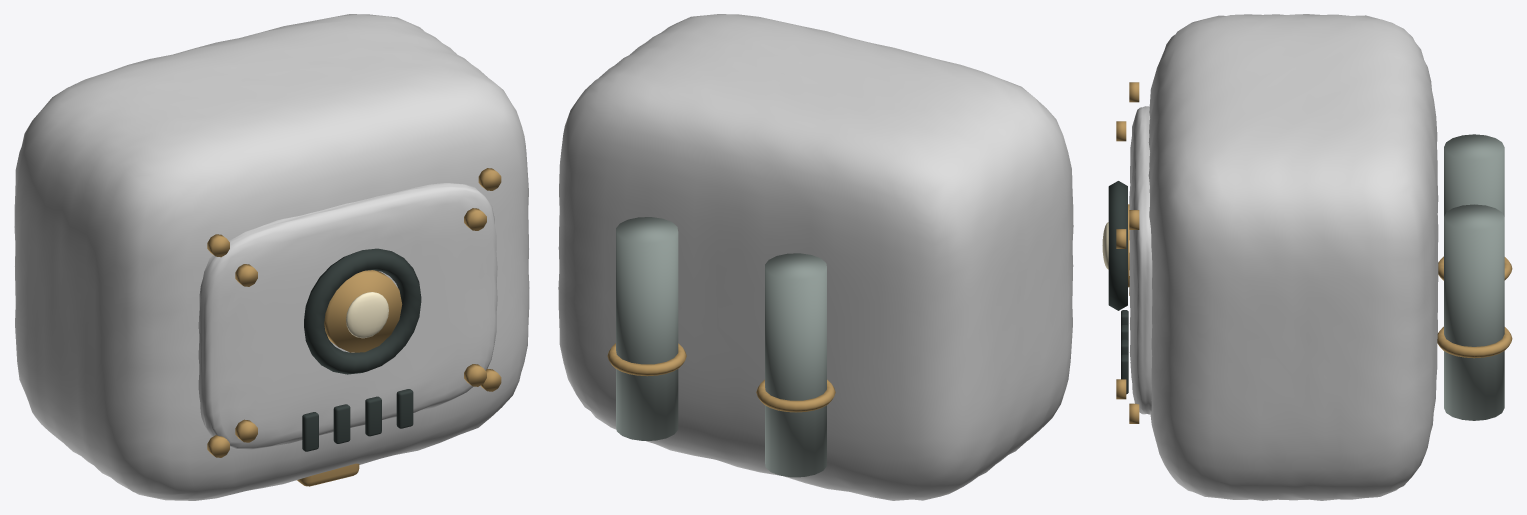
The model's file is brute-torso-0.glb.
3 views of the same model, side by side, from view 1: azimuth 30°, elevation 25°; view 2: azimuth 150°, elevation 25°; view 3: azimuth 270°, elevation 25° (orthographic). The views are drawn at different scales.
Parts seen in each view (by area): view 1: torso_clay, torso_mechanism, torso_brass, torso_lens; view 2: torso_clay, torso_steel, torso_brass; view 3: torso_clay, torso_steel, torso_mechanism, torso_brass.
Boxes of the visible parts, <box> form: torso_clay: <box>14,14,529,500</box>; torso_mechanism: <box>302,248,421,451</box>; torso_brass: <box>207,168,501,486</box>; torso_lens: <box>346,292,388,338</box>; torso_clay: <box>558,14,1073,500</box>; torso_steel: <box>616,217,826,477</box>; torso_brass: <box>607,343,835,412</box>; torso_clay: <box>1129,14,1438,500</box>; torso_steel: <box>1444,134,1504,420</box>; torso_mechanism: <box>1108,181,1128,394</box>; torso_brass: <box>1116,82,1512,423</box>.
Bounding box in the file's own units: 1.49 × 1.23 × 1.28.
